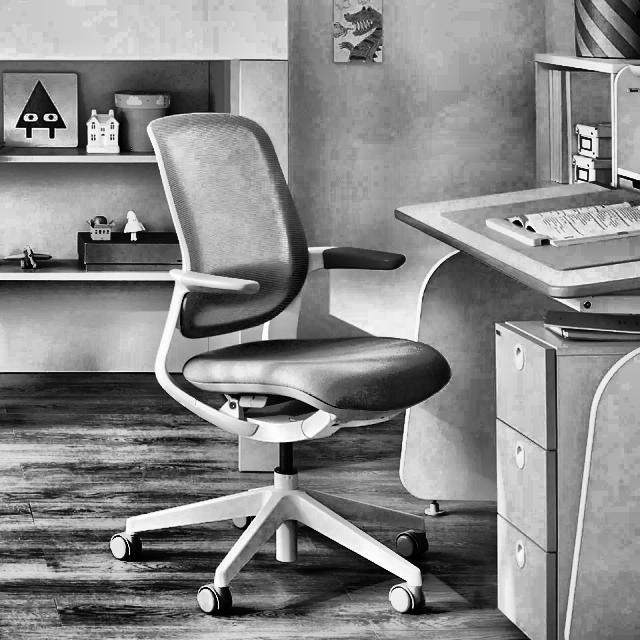cadeira: (107, 110, 446, 620)
